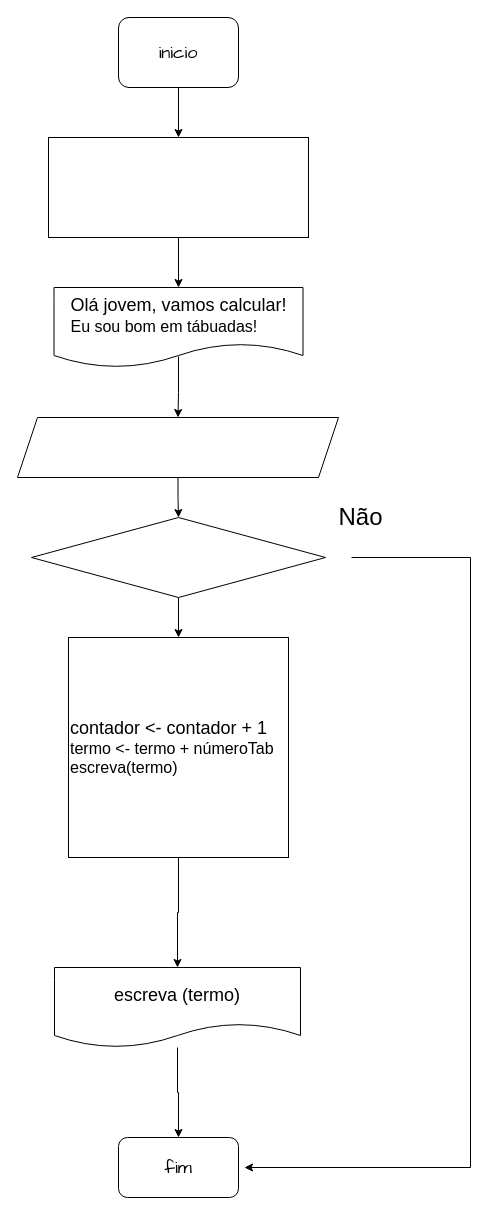
Some shapes in this 496 by 1215 pixel diagram are drawn without their labels. The shapes that lost their labels are listed below. From the top down, each one's box as (x1, y1, x2, y2) in pixels, then its label:
(48, 136, 308, 238): inteiro númeroTab <- 0 Termo <- 0 contador <- 1
(16, 416, 338, 478): Digita o numero que deseja tabular: (númeroTab)
(30, 516, 326, 598): (contador <= 10) ?
